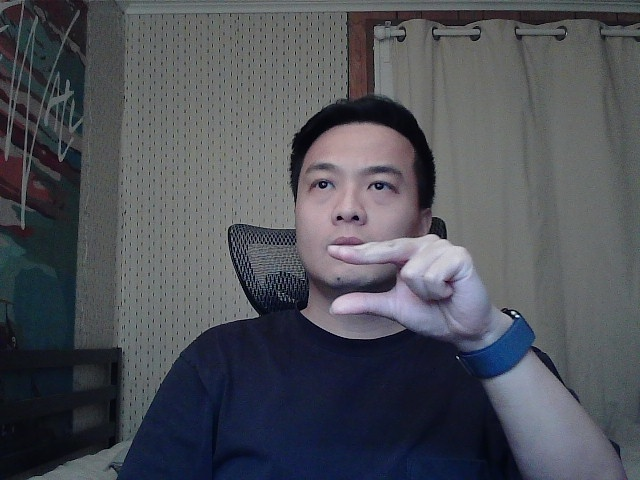No: (320, 229, 497, 355)
